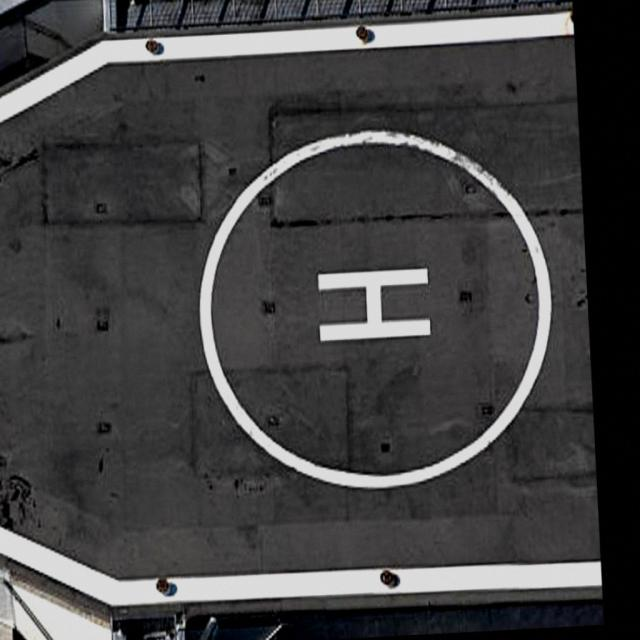helipad: (192, 124, 556, 494)
